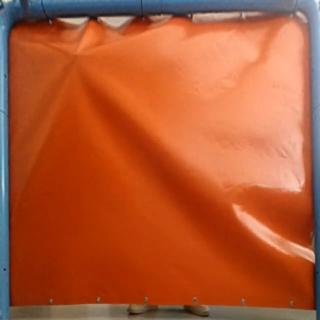Hit-hRxx: (66, 47, 87, 62)
